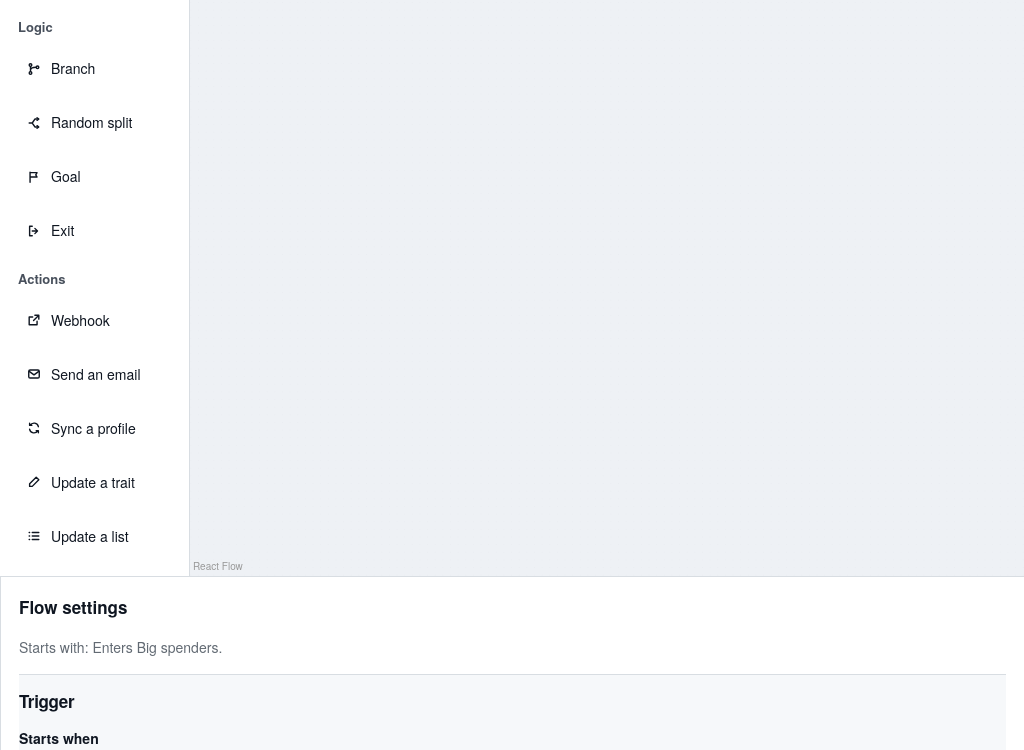
Test: the send and sync steps in the editor › adds a send step that starts with nothing chosen
(page scrolled)
Step 1. Click the button "Send an email" → (94, 374), box 18,352 -> 171,396
(page scrolled)
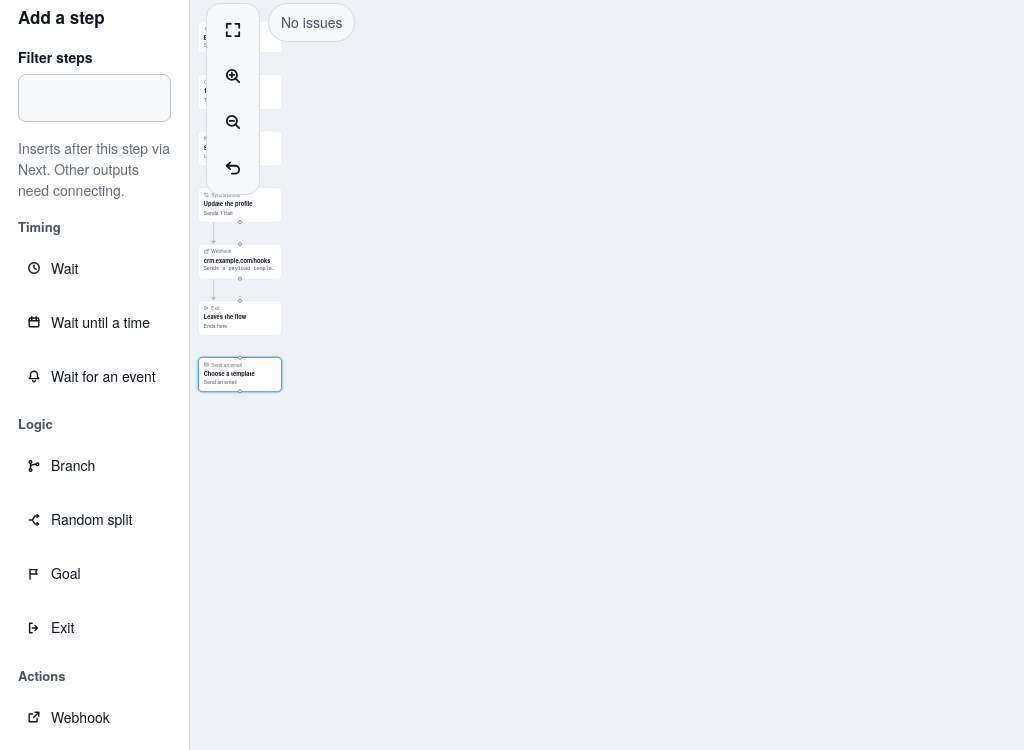
Now the element named "Send an email: Choose a template" is shown, box 198,357 -> 282,392
